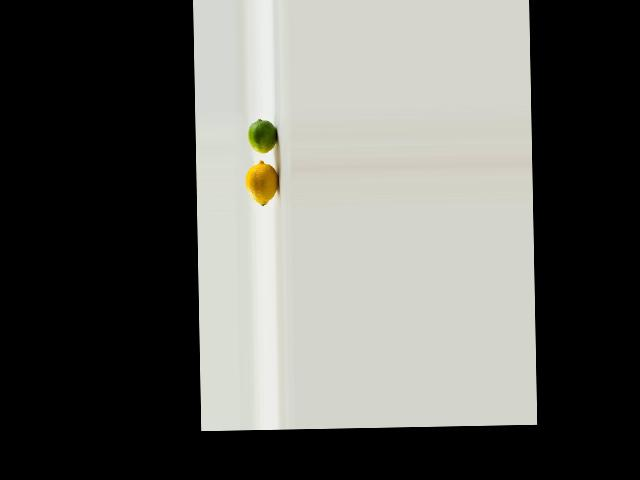lemon: (243, 162, 279, 205)
